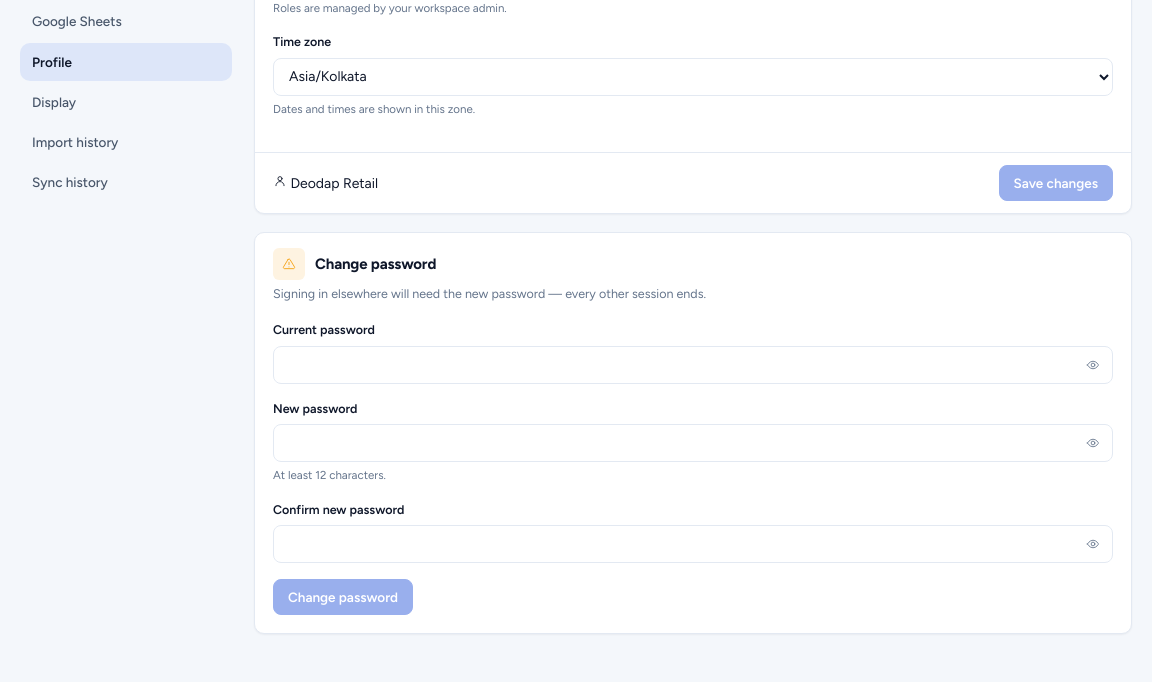
Scenario: Change password › shows the server refusal when the password is too short
This screenshot has width=1152, height=682.
(page scrolled)
Type "correct horse battery" into the password field labelled "Current password" at (693, 364), box [273, 346, 1113, 384]
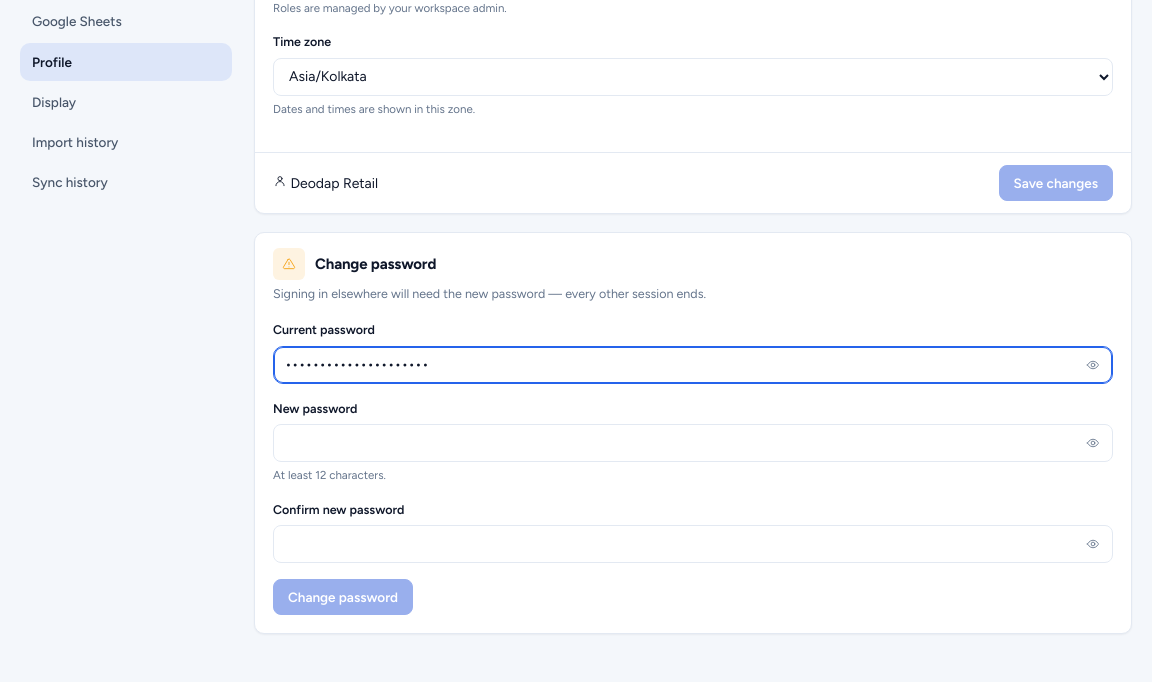
Type "short" into the password field labelled "New password" at (693, 443), box [273, 424, 1113, 462]
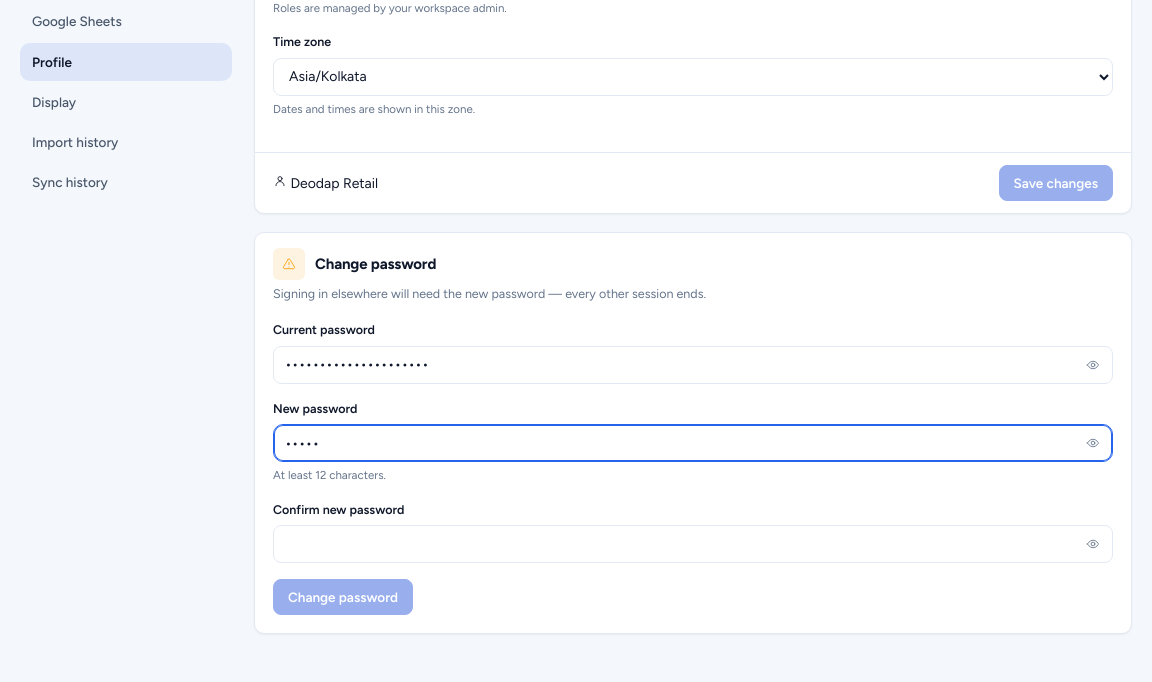
Type "short" into the password field labelled "Confirm new password" at (693, 544), box [273, 525, 1113, 563]
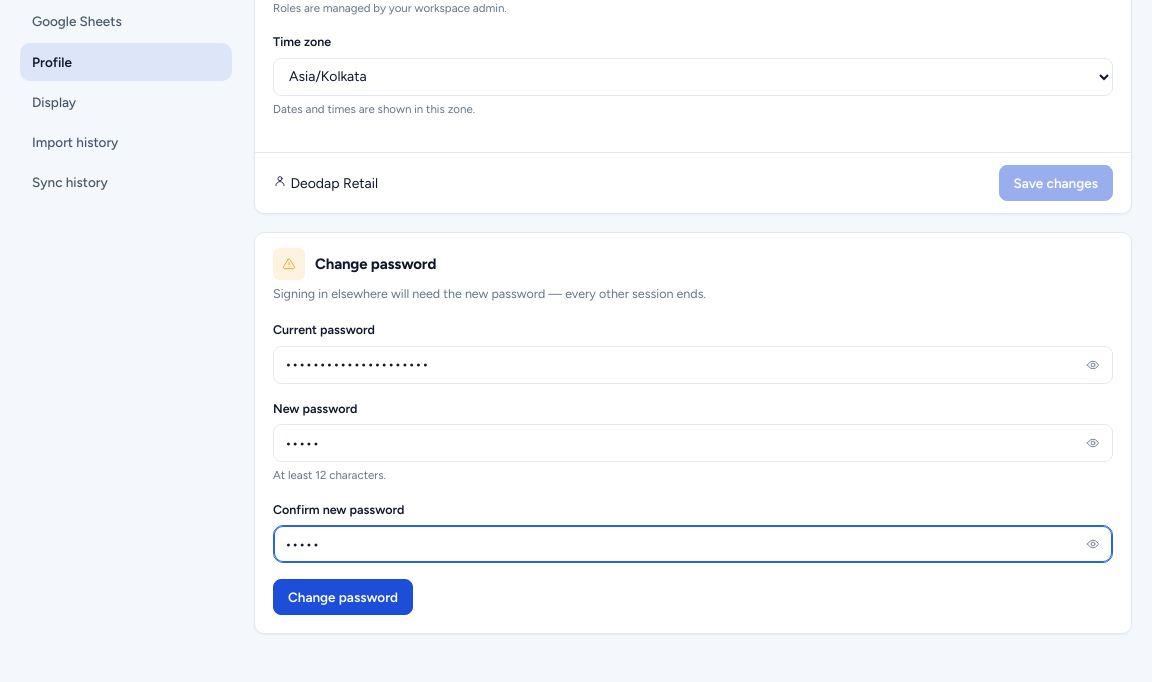
Click the button "Change password" at (343, 597), box [273, 579, 413, 615]
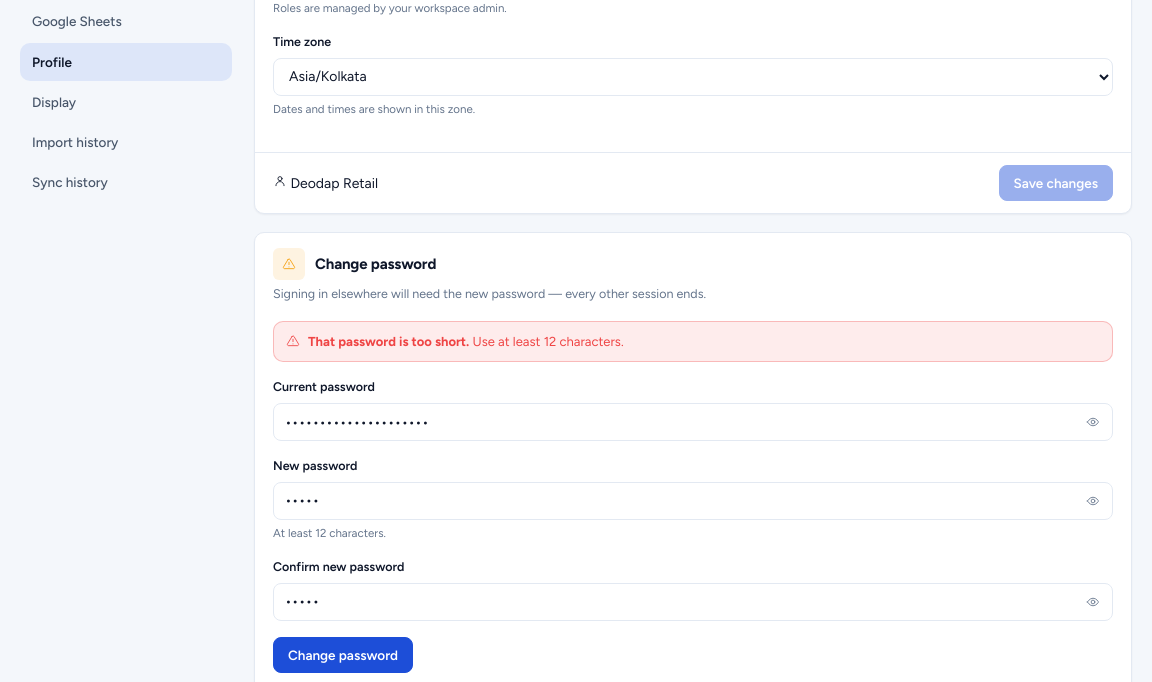
expect the message shows "That password is too short.": met, box [308, 334, 469, 349]
